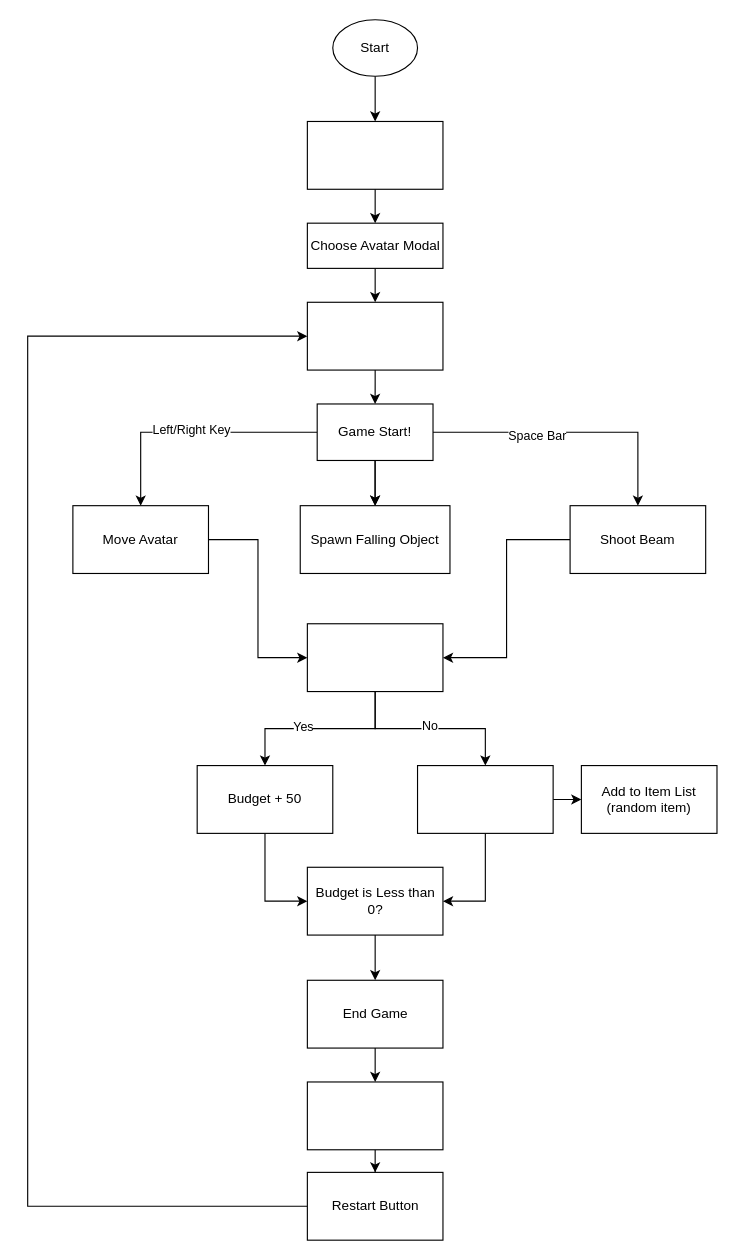
Some shapes in this 737 by 1260 pixel diagram are drawn without their labels. Each missing label, with the box of its shape:
Budget - 200: (416, 764, 553, 833)
Game Over Modal: (306, 1081, 443, 1150)
Hit Falling Object?: (306, 623, 443, 692)
Set Initial Budget = 1000: (306, 301, 443, 370)
Start Modal: (306, 120, 443, 189)
